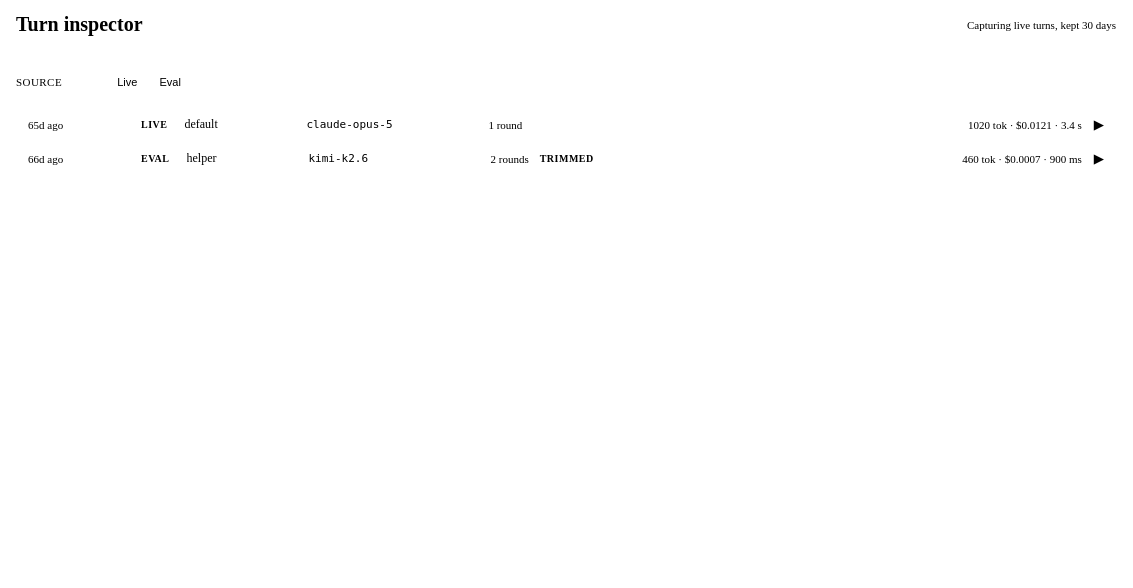
Scenario: Turn inspector — detail › collapses again on a second click and keeps one row open at a time
Check: the element with test id "trace-rows" is shown, box left=16, top=108, right=1116, bottom=176
Click the button with test id "trace-row" that starts with "65d ago".
click(46, 125)  # box left=16, top=108, right=1116, bottom=142
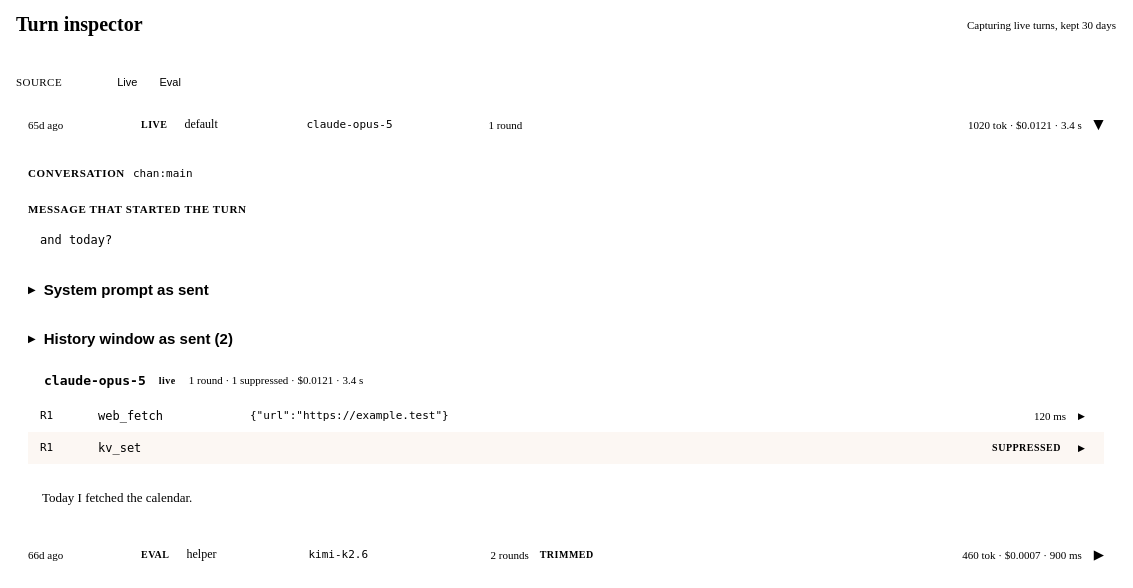
Check: the element with test id "trace-detail" is shown
Click the button with test id "trace-row" that starts with "66d ago".
click(566, 555)  # box left=16, top=538, right=1116, bottom=572
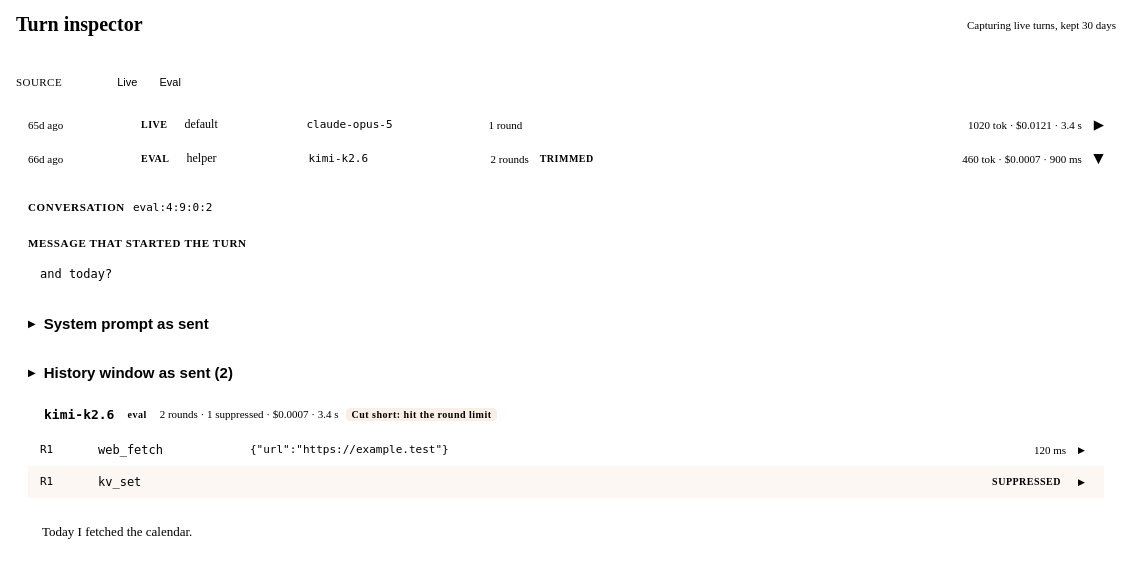
Check: the number of elements with test id "trace-detail" is 1
Click the button with test id "trace-row" that starts with "66d ago".
click(566, 159)  # box left=16, top=142, right=1116, bottom=176
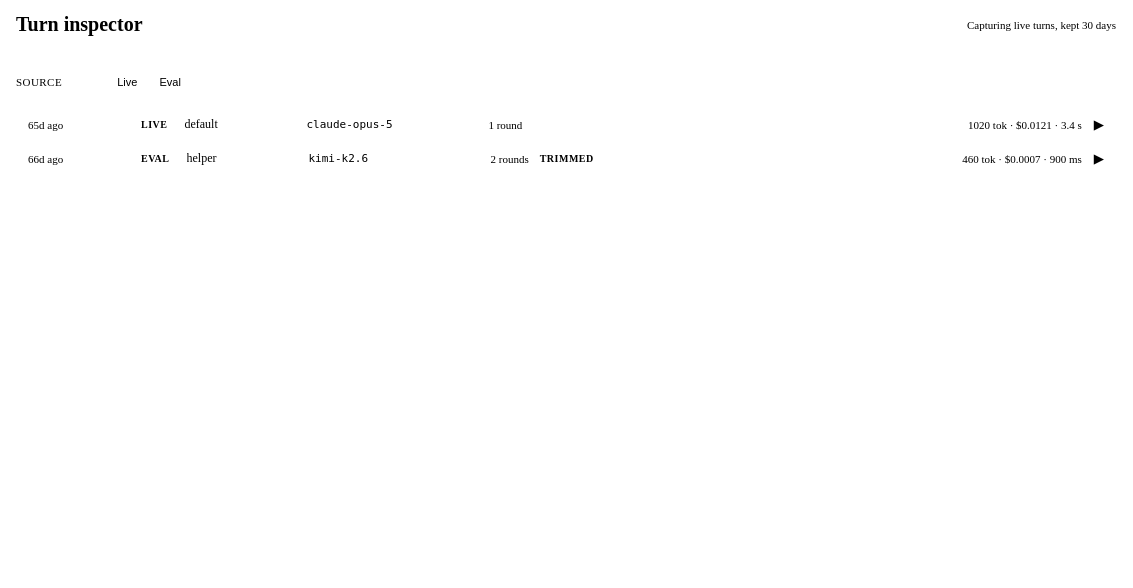
Check: the element with test id "trace-detail" is gone
